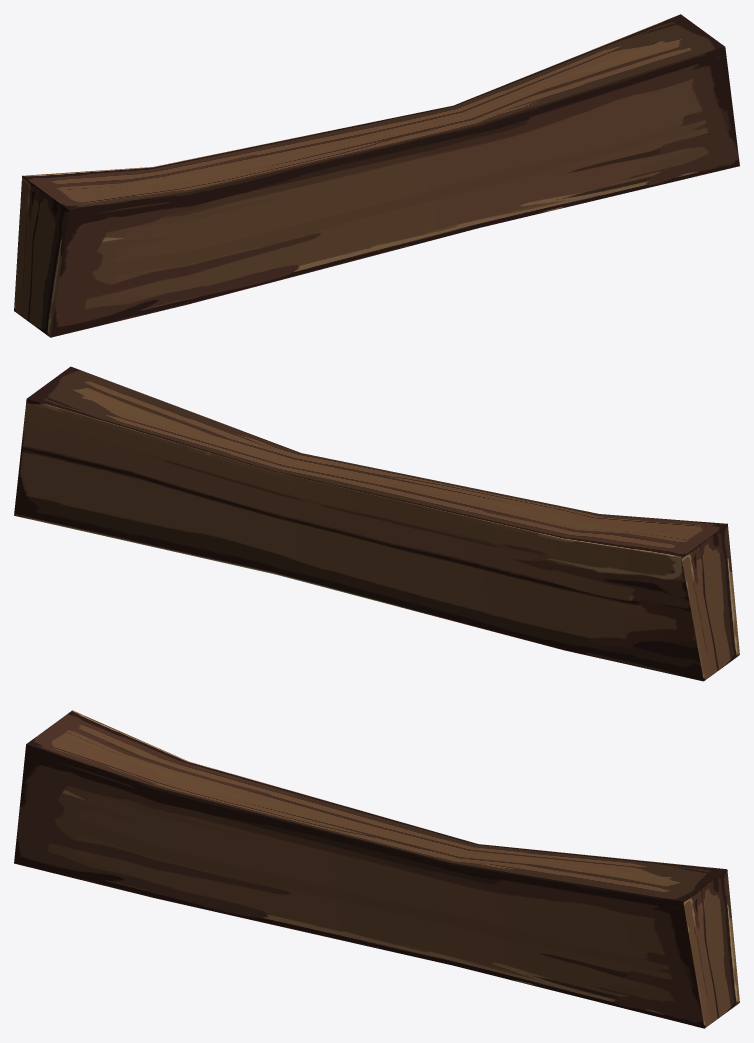
The model's file is SM_PROP_beam_wood_dungeon_02.fbx.
The picture shows the model from 3 angles, top to bottom: view 1: azimuth 30°, elevation 25°; view 2: azimuth 150°, elevation 25°; view 3: azimuth 330°, elevation 25°; orthographic projection.
Parts seen in each view (by area): view 1: SM_PROP_beam_wood_dungeon_02; view 2: SM_PROP_beam_wood_dungeon_02; view 3: SM_PROP_beam_wood_dungeon_02.
Part boxes in pixels (x1,y1,x2,y2): SM_PROP_beam_wood_dungeon_02: (14,14,739,337); SM_PROP_beam_wood_dungeon_02: (14,366,739,681); SM_PROP_beam_wood_dungeon_02: (14,710,739,1028).
Bounding box in the file's own units: 191 × 33.9 × 22.75.
